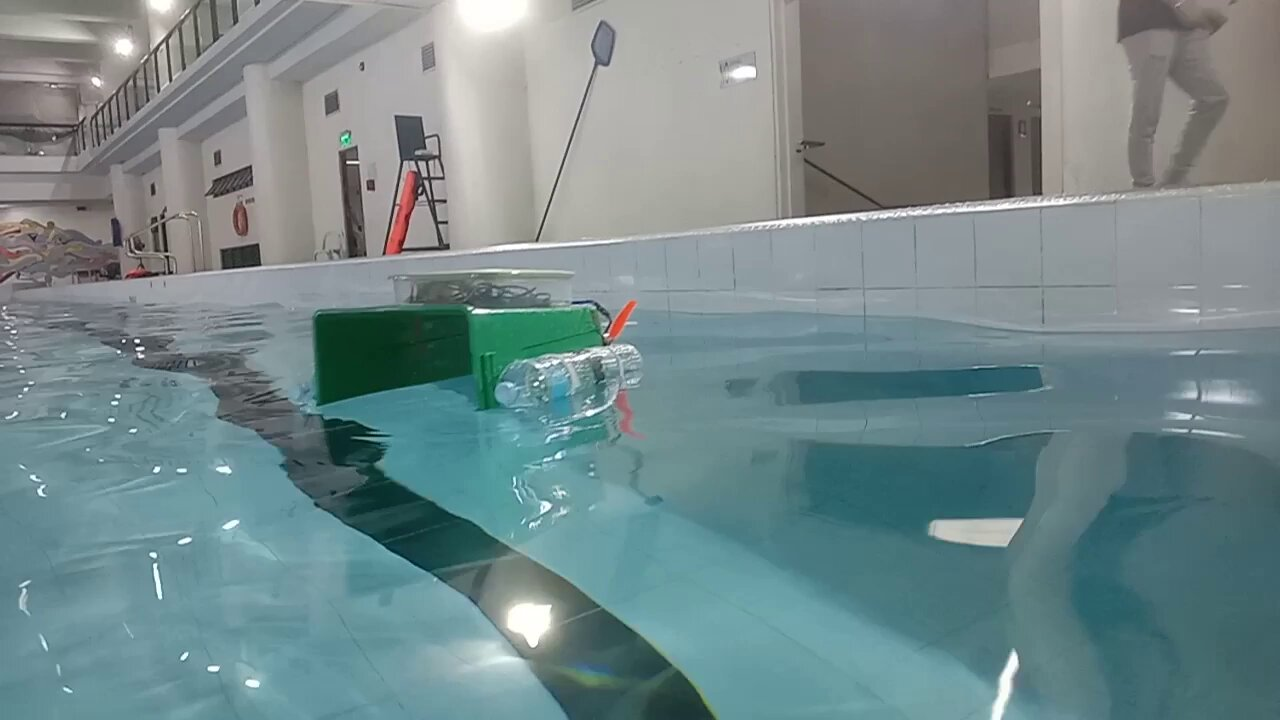drone: (310, 266, 644, 415)
